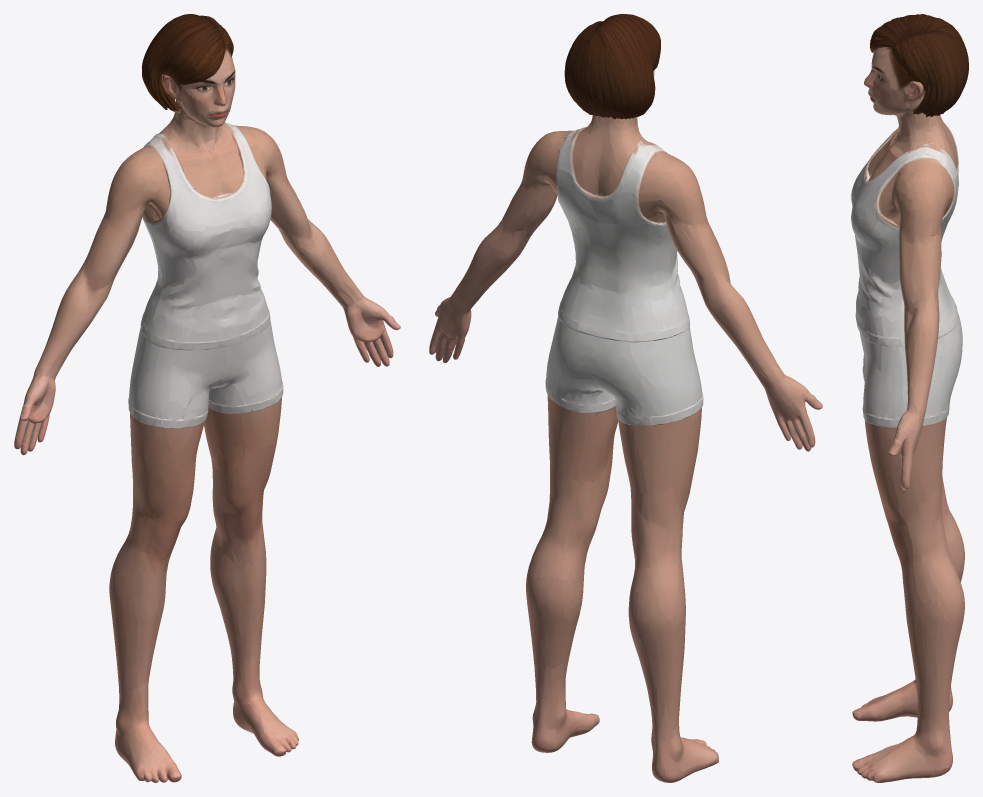
Rendered from original_meshy_output.glb.
3 views of the same model, side by side, from view 1: azimuth 30°, elevation 25°; view 2: azimuth 150°, elevation 25°; view 3: azimuth 270°, elevation 25° (orthographic). The views are drawn at different scales.
Visible parts, largest first — view 1: Mesh_0; view 2: Mesh_0; view 3: Mesh_0.
Part boxes in pixels (left/top/right/bottom): Mesh_0: left=14, top=14, right=400, bottom=782; Mesh_0: left=429, top=14, right=822, bottom=782; Mesh_0: left=851, top=14, right=968, bottom=782.
Bounding box in the file's own units: 1.04 × 1.9 × 0.279.
Materials: 1 (1 with a texture image).
